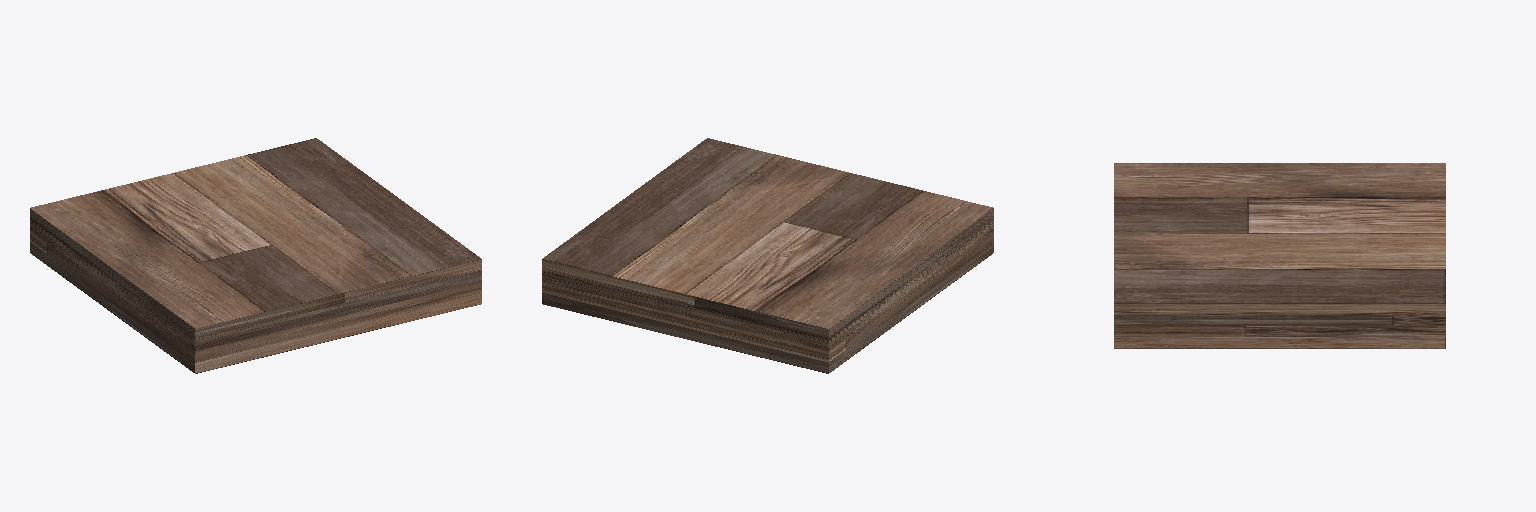
3 views of the same model, side by side, from view 1: azimuth 30°, elevation 25°; view 2: azimuth 150°, elevation 25°; view 3: azimuth 270°, elevation 25° (orthographic).
Parts seen in each view (by area): view 1: Cube.001; view 2: Cube.001; view 3: Cube.001.
Boxes of the visible parts, x1,y1,x2,y2 form: Cube.001: [30, 138, 481, 373]; Cube.001: [542, 138, 993, 373]; Cube.001: [1114, 163, 1445, 348].
Bounding box in the file's own units: 4 × 0.6 × 4.
1 materials, 1 textured.